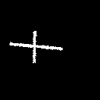single_crochet: (10, 31, 61, 62)
